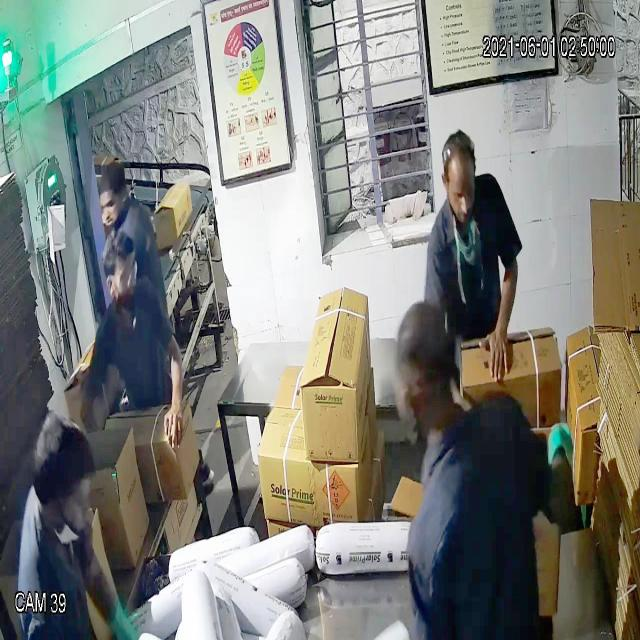glasses: (102, 261, 140, 295)
no-glass: (439, 175, 476, 211)
